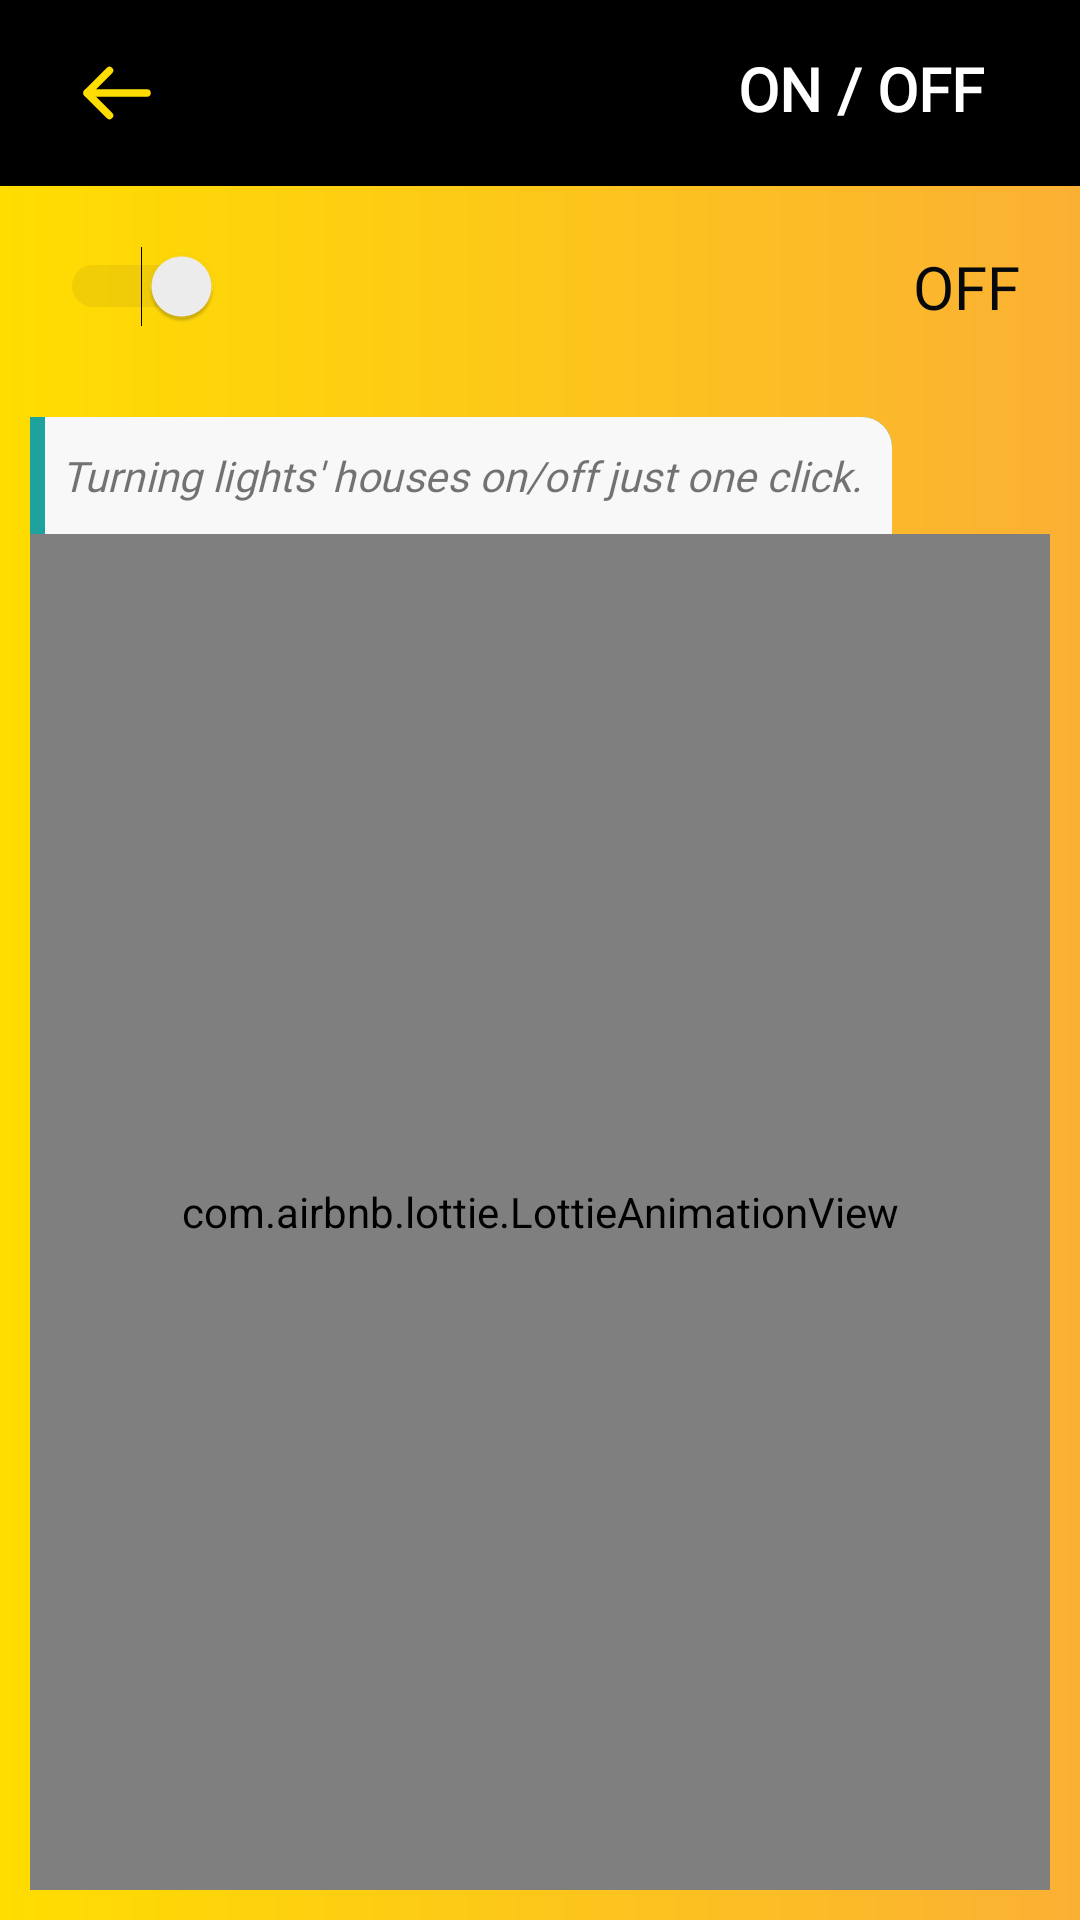

Icons on this 1080px×1920px Android screen, each with its box as (x1, y1, x2, y2):
arrow exit: (83, 66, 151, 120)
